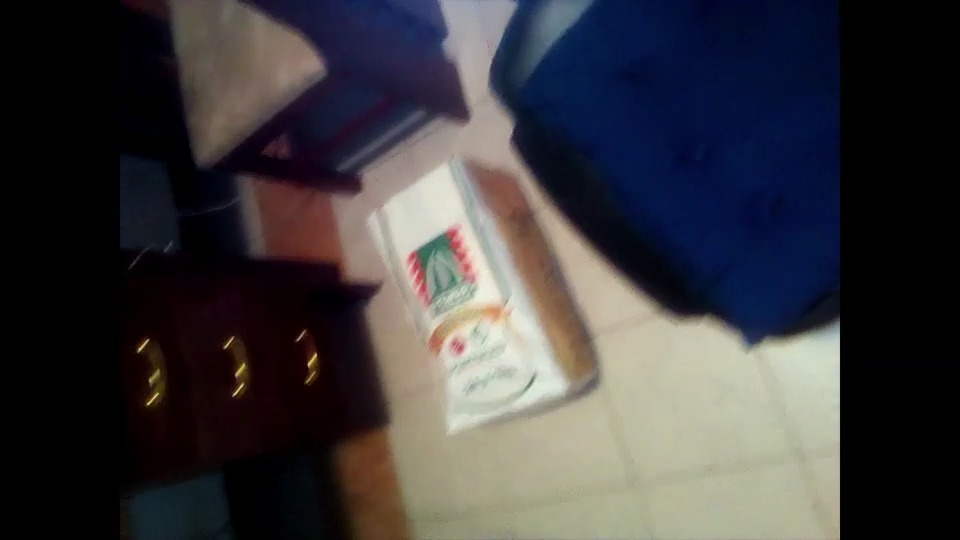maize_flour_green_label: (367, 157, 600, 429)
